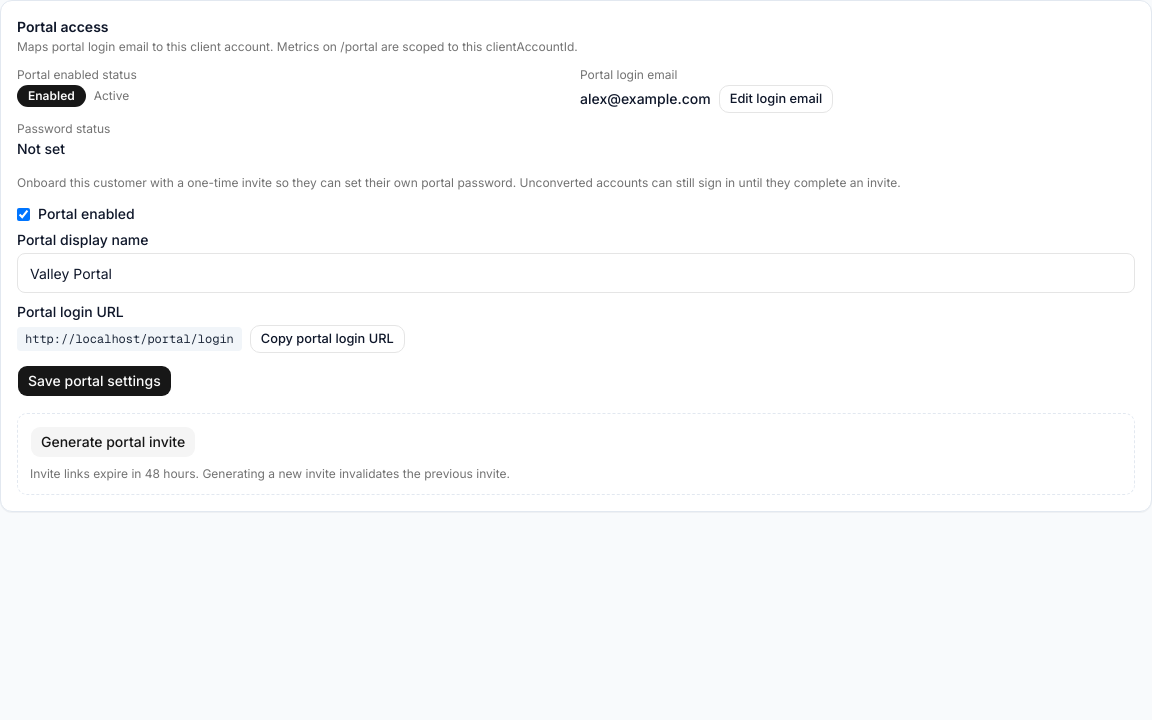
Test case: Edit reveals an input initialized from the saved canonical email
The width and height of the screenshot is (1152, 720).
Click the button "Edit login email": (776, 99) [719, 85, 833, 113]
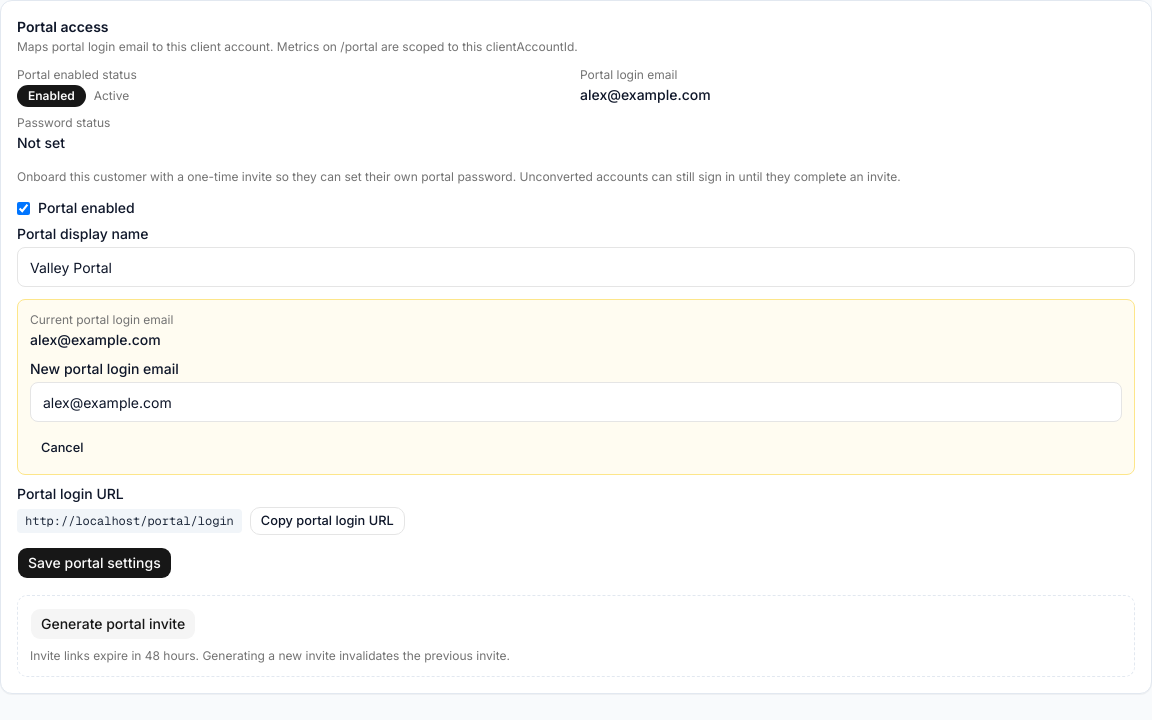
Expected: the text "alex@example.com" in the row of "Active" is shown, [580, 86, 711, 103]
Expected: the text "Current portal login email" is shown, [30, 312, 173, 327]
